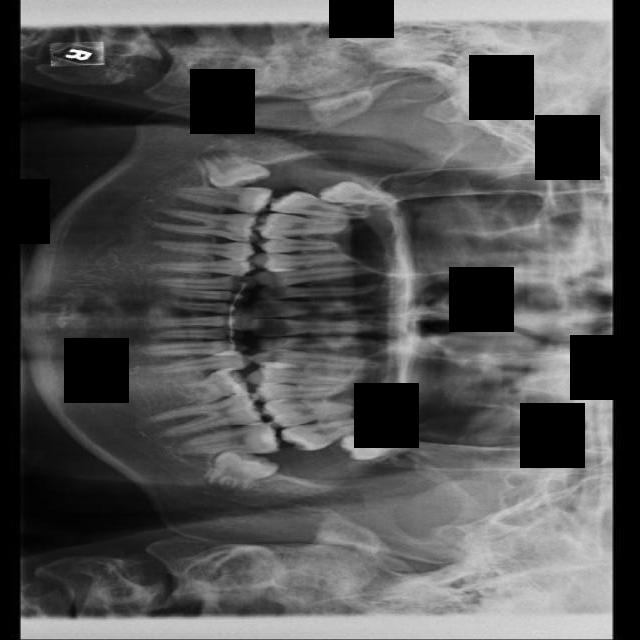3M ESPE Implant: (320, 180, 399, 208)
73: (38, 619, 44, 629)
BioHorizons Implant: (280, 413, 382, 456)
BioLife Implant: (339, 430, 409, 462)
Biomet 3i Implant: (207, 445, 282, 499)
Blue Sky Bio Implant: (173, 422, 280, 455)
Caries: (271, 189, 373, 221)
Implant: (171, 187, 271, 213)
Keystone Dental Implant: (198, 141, 272, 193)
